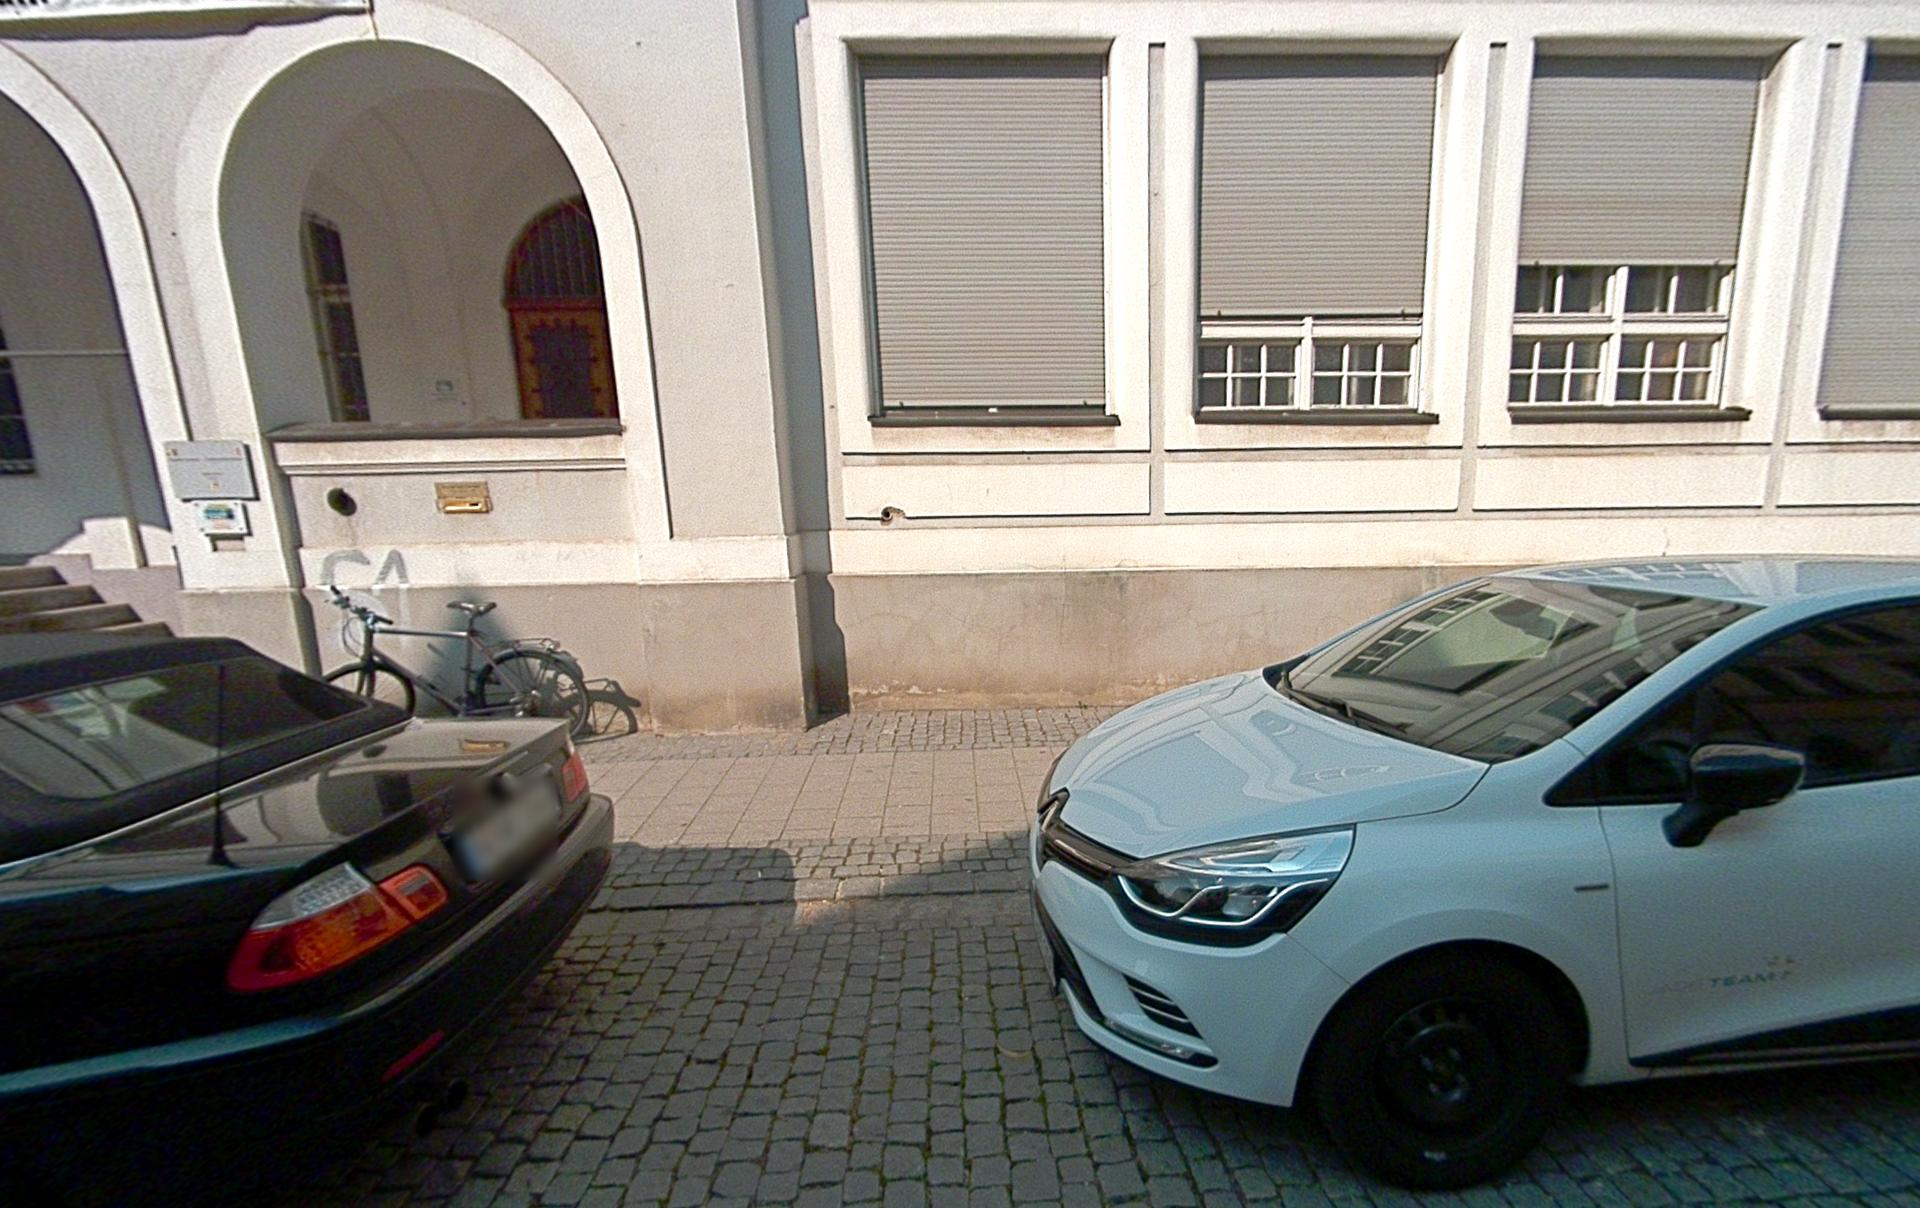car: (1028, 554, 1919, 1191), (1, 630, 615, 1204)
traffic sign: (163, 438, 260, 502)
